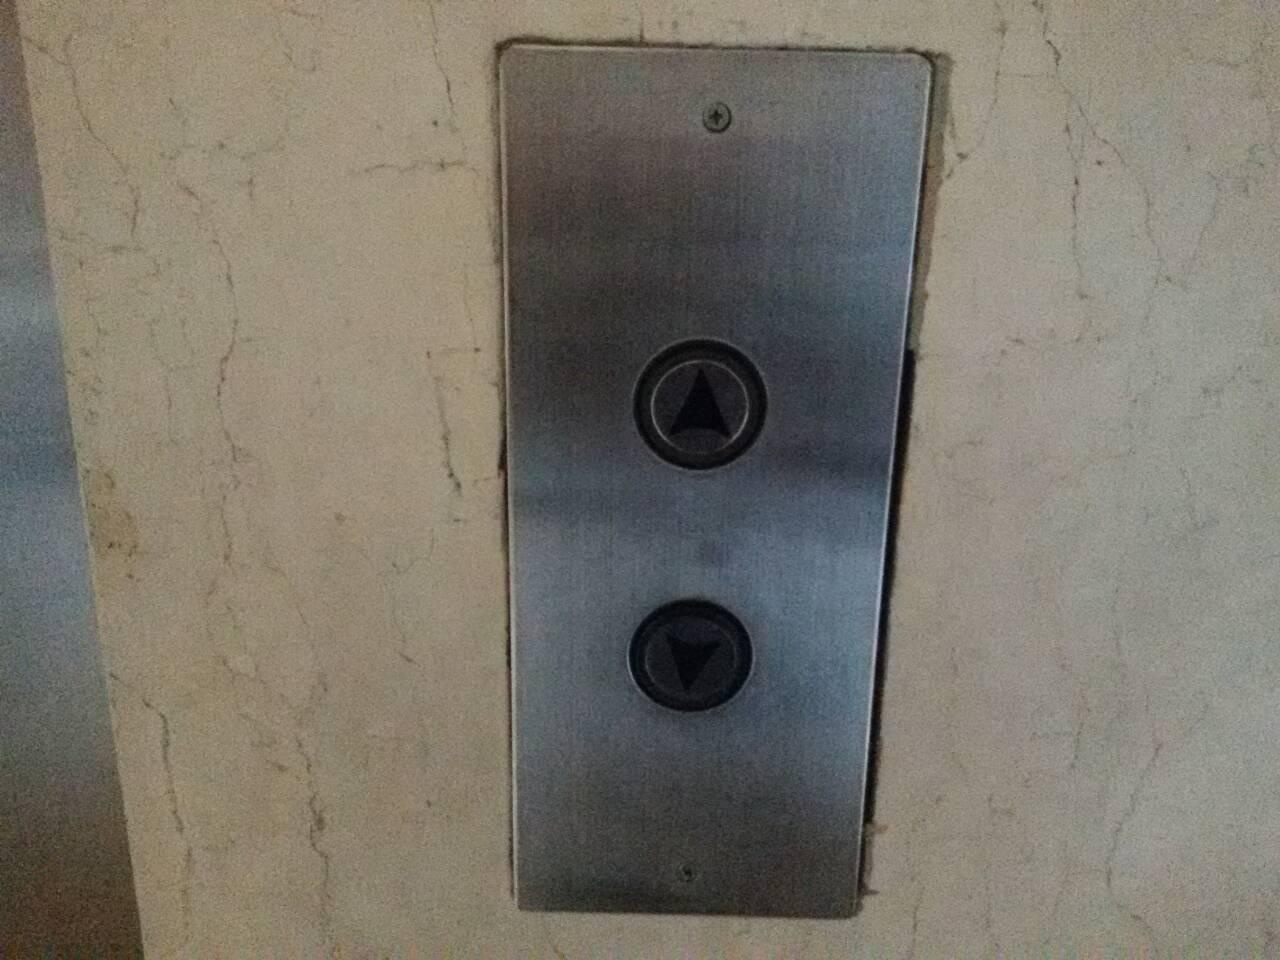down: (629, 600, 754, 712)
up: (632, 338, 769, 475)
